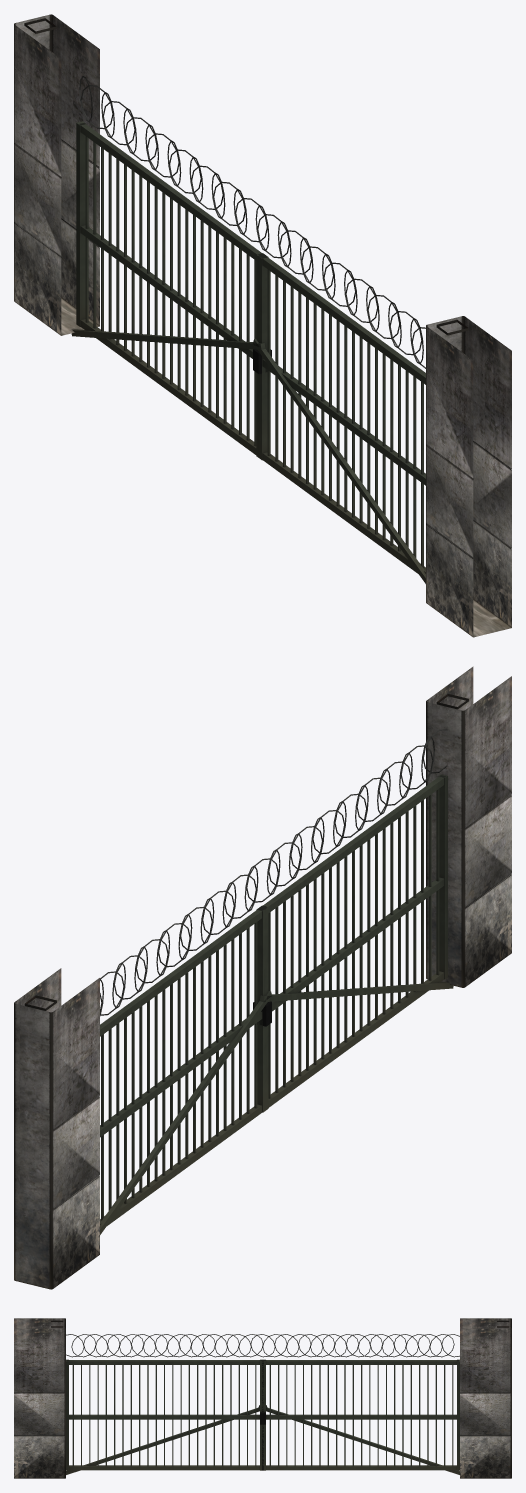
File: vgate.glb
3 renders of one model, top to bottom at view 1: azimuth 30°, elevation 25°; view 2: azimuth 150°, elevation 25°; view 3: azimuth 270°, elevation 25°, orthographic. The views are drawn at different scales.
Parts seen in each view (by area): view 1: hull; view 2: hull; view 3: hull.
Part boxes in pixels (bbox=[...]): hull: bbox=[14, 14, 511, 637]; hull: bbox=[14, 666, 511, 1289]; hull: bbox=[14, 1318, 511, 1478].
Bounding box in the file's own units: 0.5839 × 4.08 × 12.
1 material, 1 textured.
